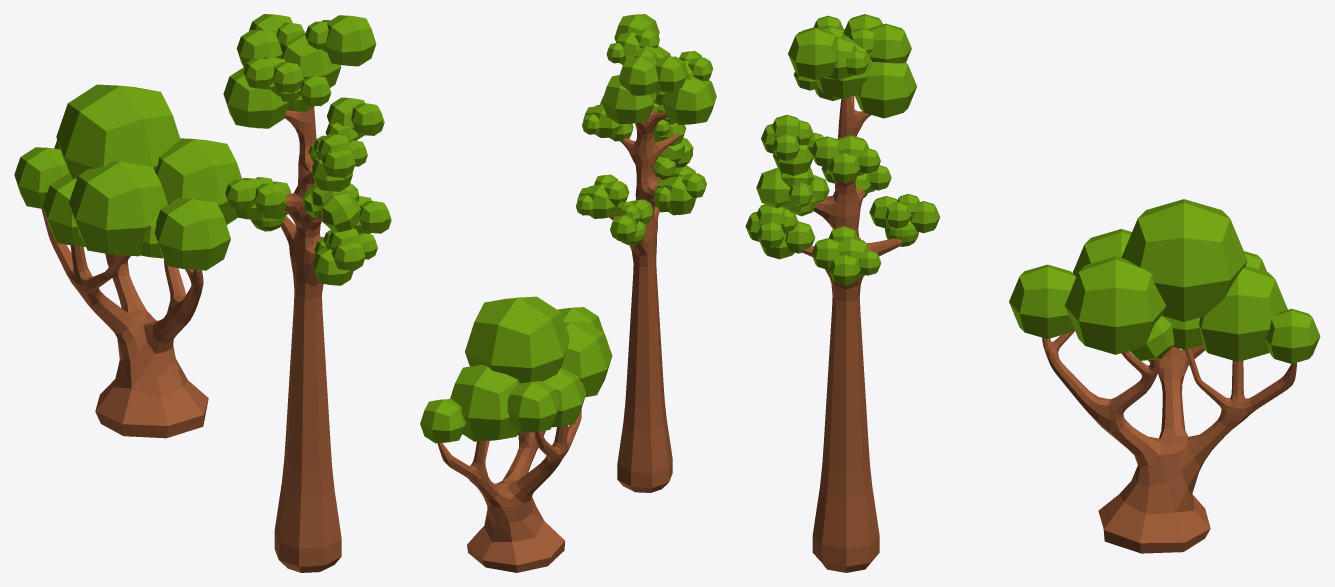
Rendered from low_poly_trees.glb.
The picture shows the model from 3 angles, left to right: view 1: azimuth 30°, elevation 25°; view 2: azimuth 150°, elevation 25°; view 3: azimuth 270°, elevation 25°; orthographic projection. The views are drawn at different scales.
Parts seen in each view (by area): view 1: tree2, tree1; view 2: tree2, tree1; view 3: tree2, tree1.
Boxes of the visible parts, left/top/right/bottom form: tree2: left=14, top=84, right=241, bottom=438; tree1: left=223, top=14, right=391, bottom=572; tree2: left=420, top=296, right=612, bottom=572; tree1: left=576, top=14, right=716, bottom=492; tree2: left=1009, top=199, right=1320, bottom=553; tree1: left=745, top=14, right=940, bottom=572.
Size of the model in its own units: 327 by 998 by 946.
